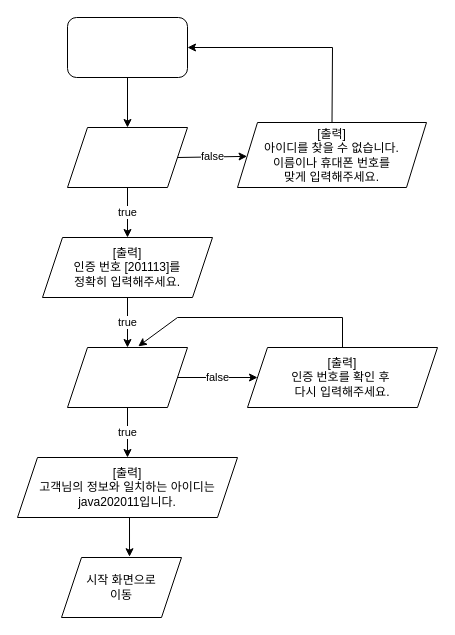
Image size: 455x635. Some labels were removed from this diagram. Each missing label, with the centre of its shape:
"[입력] 인증 번호 :" belongs at (x=127, y=377).
"[입출력] 이름 : 휴대폰 번호 :" belongs at (x=127, y=157).
"아이디 찾기 메소드 시작" belongs at (x=127, y=47).
